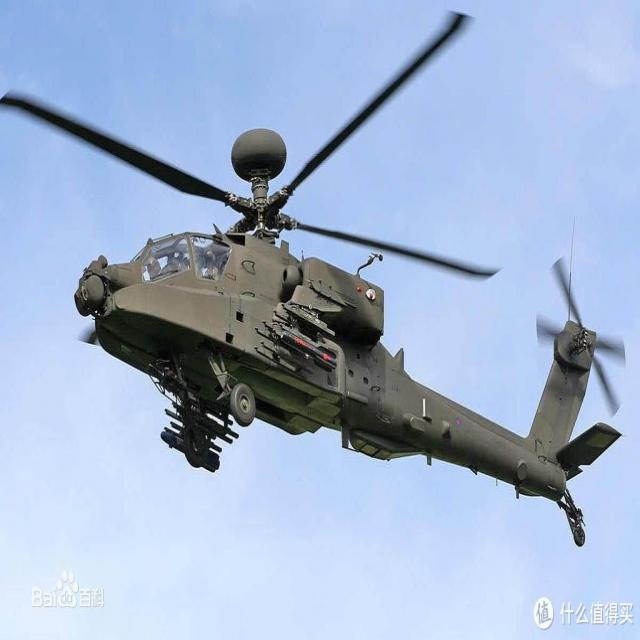MIL_HELO: (19, 29, 640, 548)
